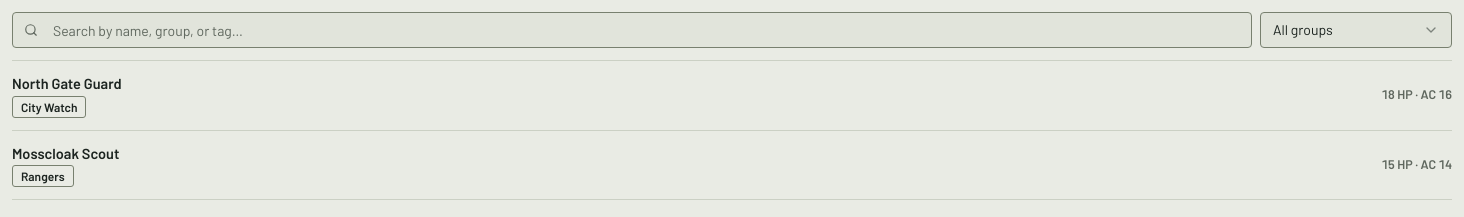
Test case: SavedCreaturePicker › filters a large saved-creature list by explicit group selection
Click the dropdown named "filter saved creatures by group": [1356, 30] box [1260, 12, 1452, 48]
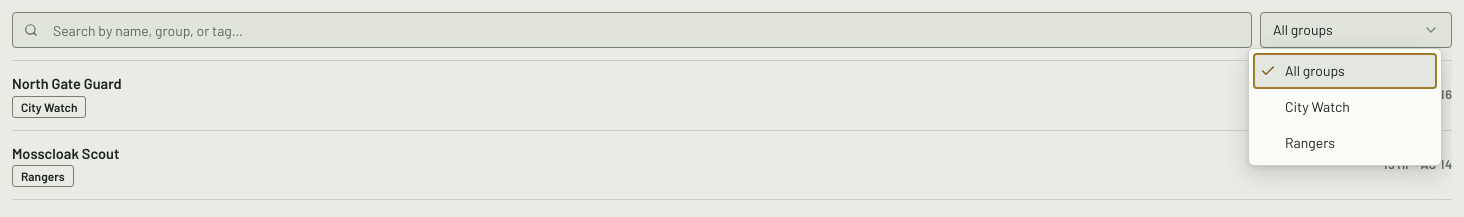
Click the option "Rangers": [1310, 142] box [1285, 134, 1335, 151]
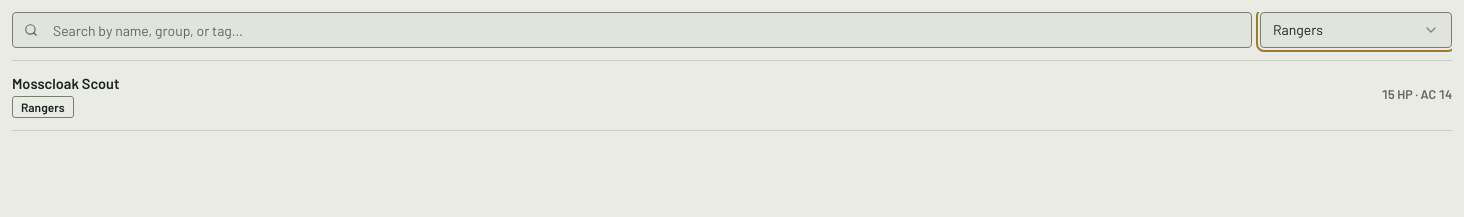
Expected: the text "Mosscloak Scout" is shown, [12, 74, 119, 92]
Expected: the button "North Gate Guard" is gone
